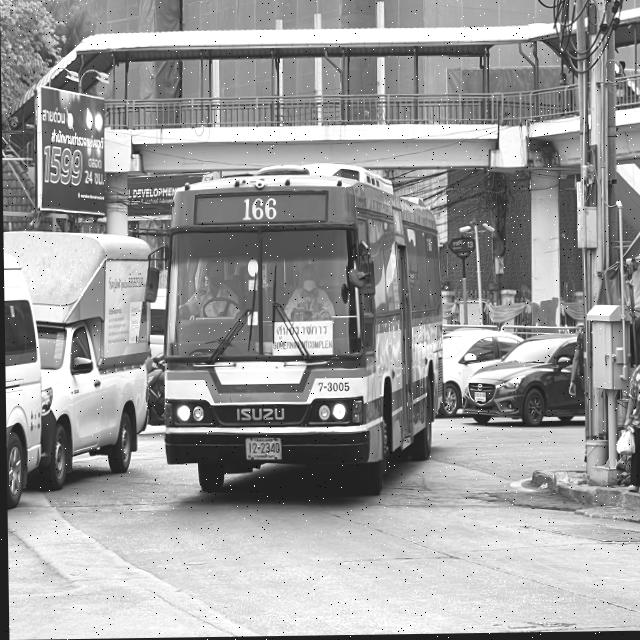BMTA-bus: (155, 157, 447, 517)
Bus Line Number: (238, 196, 281, 225)
Bus Side Number: (316, 379, 349, 394)
Destination Sign: (272, 324, 332, 357)
